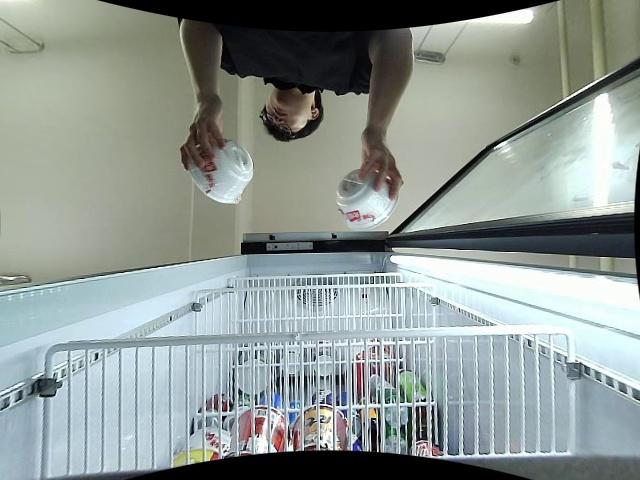00_hand: (179, 96, 227, 171), (358, 129, 404, 202)
09_yukGaeJang: (187, 139, 255, 205), (335, 169, 400, 229)
